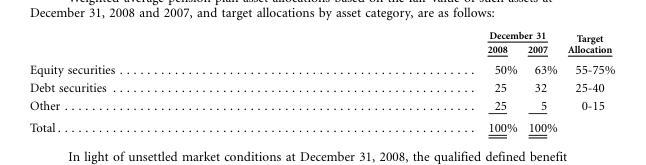table: (28, 29, 614, 133)
table column: (28, 29, 300, 133), (300, 29, 521, 133), (561, 29, 614, 133), (521, 29, 561, 133)
table column header: (28, 29, 614, 58)
table row: (28, 58, 614, 78), (28, 96, 614, 116), (28, 78, 614, 96), (28, 41, 614, 58), (28, 116, 614, 133), (28, 29, 614, 41)
table spanning cell: (300, 29, 561, 41), (561, 29, 614, 58)
